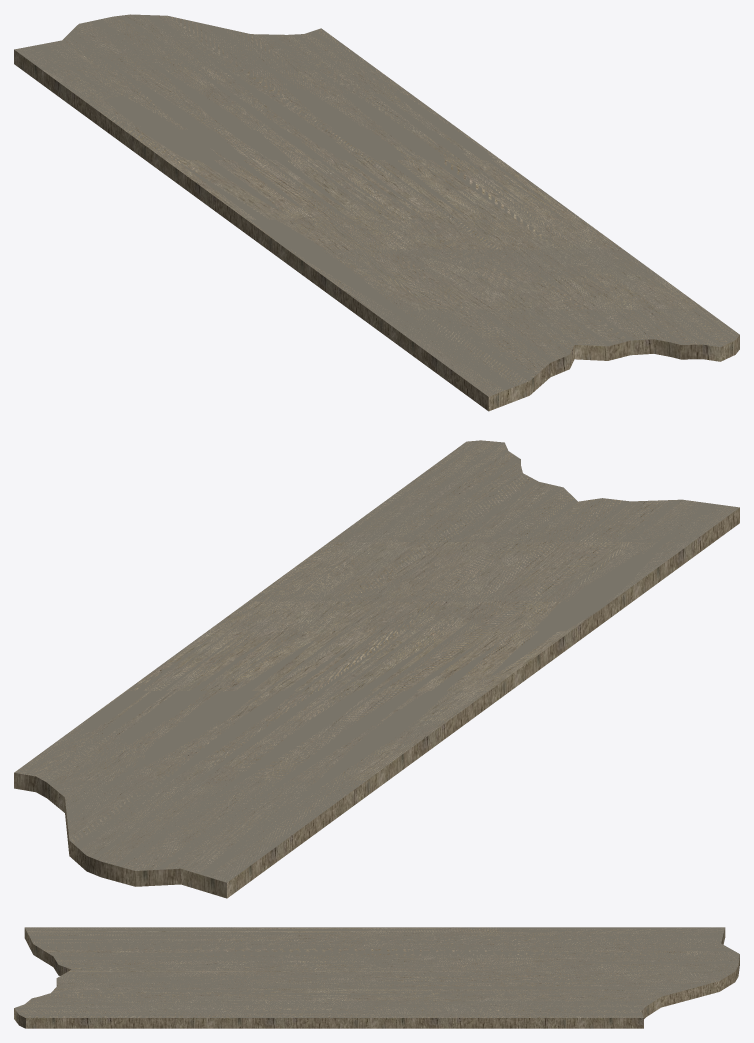
The model's file is Wood 1.fbx.
The picture shows the model from 3 angles, top to bottom: view 1: azimuth 30°, elevation 25°; view 2: azimuth 150°, elevation 25°; view 3: azimuth 270°, elevation 25°; orthographic projection. The views are drawn at different scales.
Parts seen in each view (by area): view 1: Model; view 2: Model; view 3: Model.
Part boxes in pixels (<box>): Model: <box>14,14,739,411</box>; Model: <box>14,440,739,898</box>; Model: <box>14,927,739,1028</box>.
Size of the model in its own units: 45.25 by 2.5 by 153.
